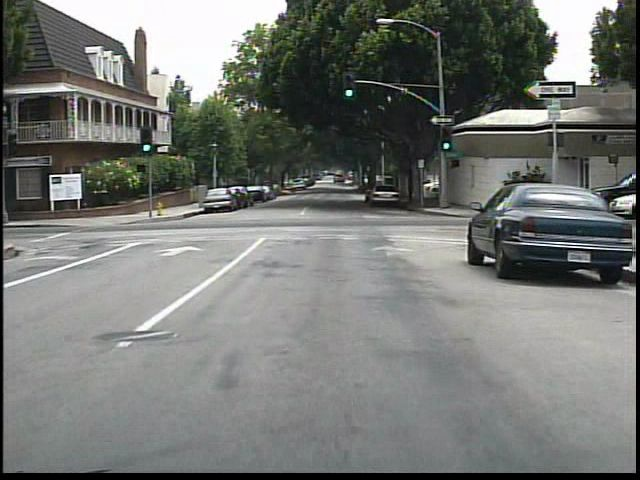person: (520, 170, 546, 217)
